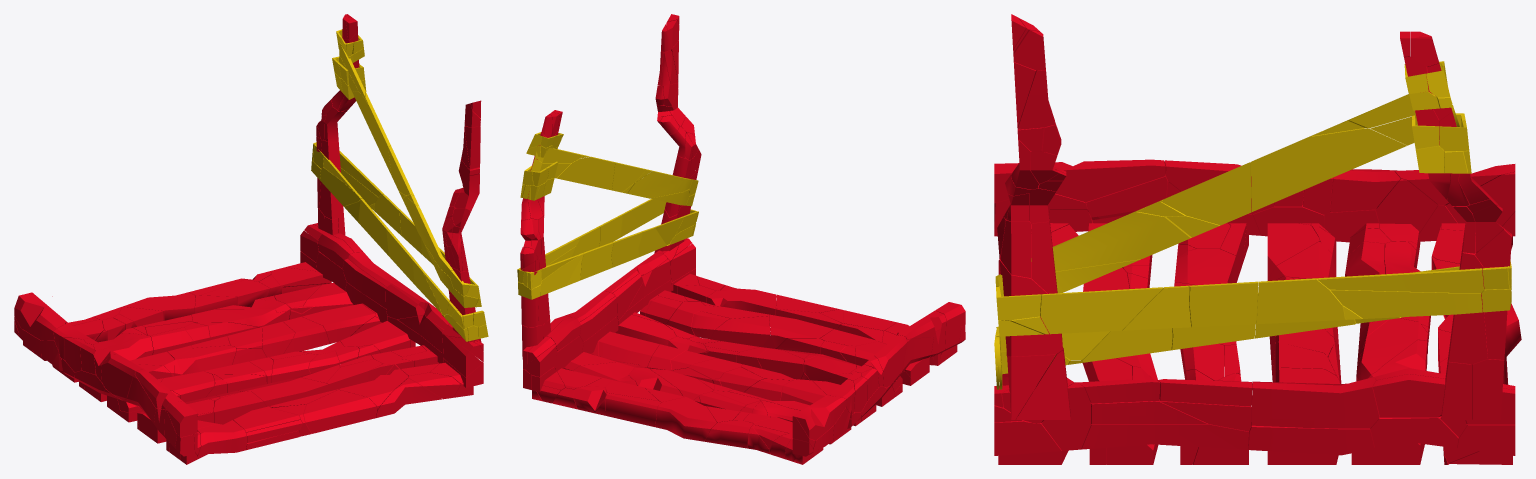
The model's file is SM_VAT_bridge_cracked.fbx.
3 views of the same model, side by side, from view 1: azimuth 30°, elevation 25°; view 2: azimuth 150°, elevation 25°; view 3: azimuth 270°, elevation 25° (orthographic). The views are drawn at different scales.
Parts seen in each view (by area): view 1: SM_VAT_bridge_cracked_vat; view 2: SM_VAT_bridge_cracked_vat; view 3: SM_VAT_bridge_cracked_vat.
Boxes of the visible parts, x1,y1,x2,y2 form: SM_VAT_bridge_cracked_vat: [14, 14, 488, 464]; SM_VAT_bridge_cracked_vat: [517, 14, 965, 464]; SM_VAT_bridge_cracked_vat: [994, 14, 1521, 464].
Bounding box in the file's own units: 224 × 192 × 203.
